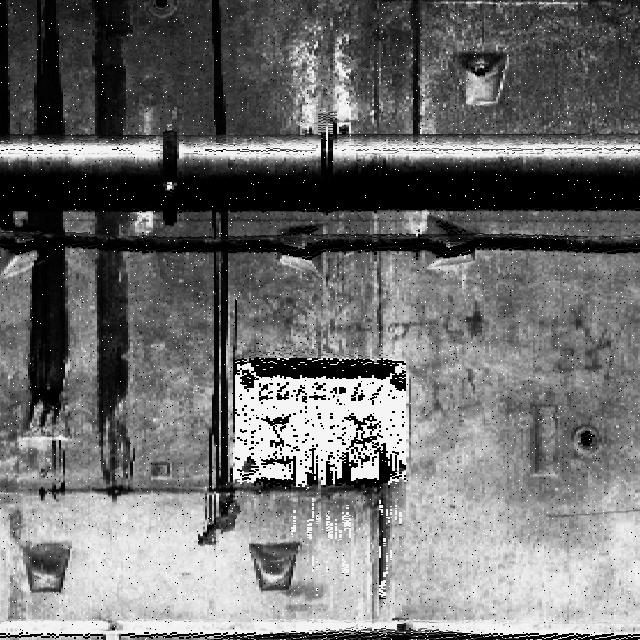leakage: (1, 210, 76, 498), (200, 212, 247, 550), (93, 211, 143, 503), (87, 1, 136, 147), (33, 1, 73, 147), (202, 1, 234, 150), (402, 1, 431, 151), (158, 127, 185, 232), (1, 1, 14, 147)
